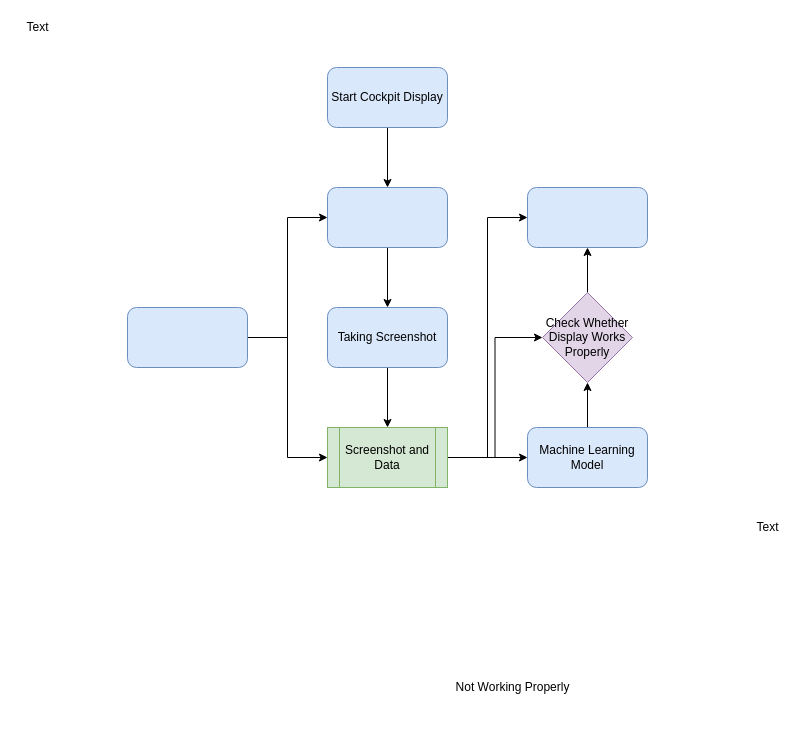
Image size: 804x756. Some labels were removed from this diagram. The centre of each missing label's shape, as x and y in pixels:
Cockpit Display: pixel 387 217
Data Distrubition System: pixel 187 337
Interface: pixel 587 217
